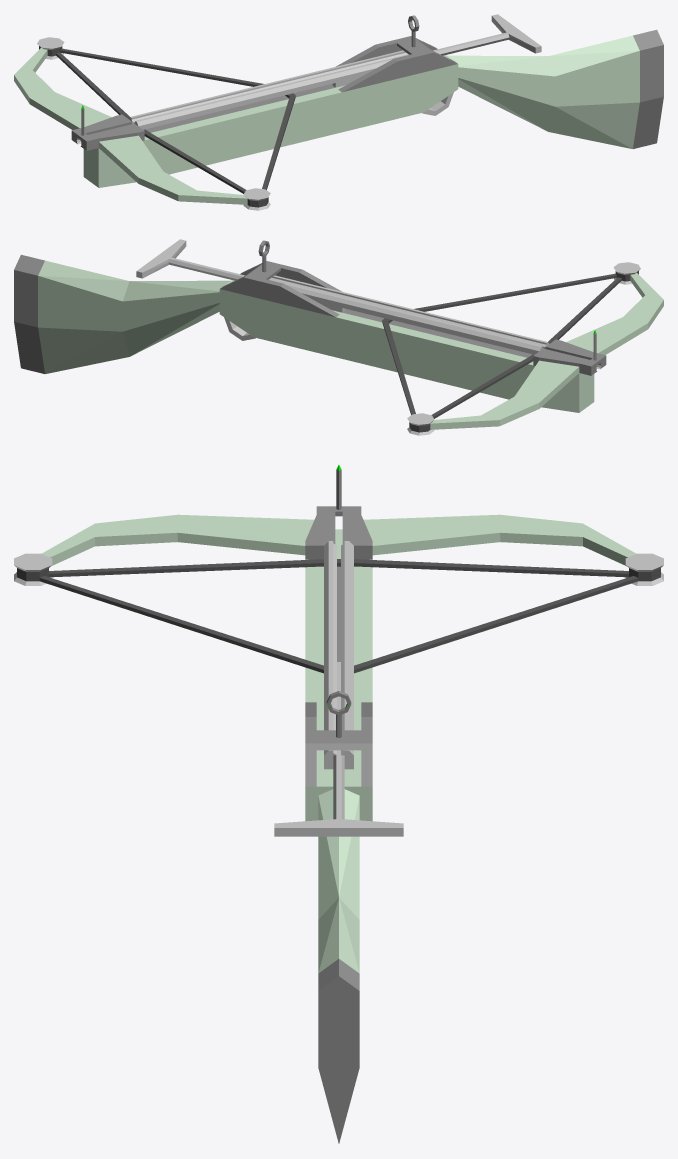
File: Crossbow.fbx
3 views of the same model, one above another, from view 1: azimuth 30°, elevation 25°; view 2: azimuth 150°, elevation 25°; view 3: azimuth 270°, elevation 25° (orthographic). The views are drawn at different scales.
Parts seen in each view (by area): view 1: Crossbow; view 2: Crossbow; view 3: Crossbow.
Part boxes in pixels (x1,y1,x2,y2): Crossbow: (14,14,663,210); Crossbow: (14,239,663,435); Crossbow: (14,465,663,1143).
Bounding box in the file's own units: 0.7995 × 0.2466 × 0.5252.
